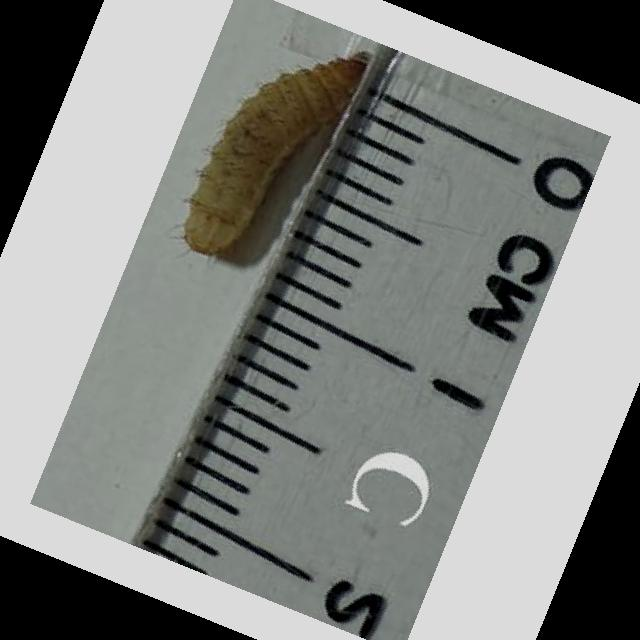Maggot: (181, 46, 363, 262)
